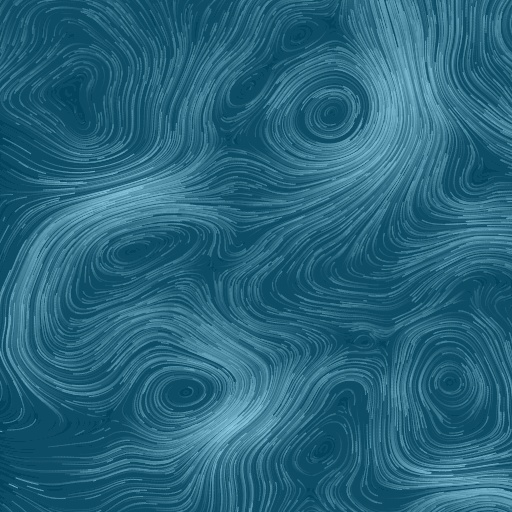eddy: (404, 326, 503, 456), (23, 46, 119, 153), (129, 355, 231, 437), (283, 69, 374, 154), (94, 223, 182, 278), (290, 421, 343, 481), (223, 66, 268, 113), (275, 18, 329, 57)
